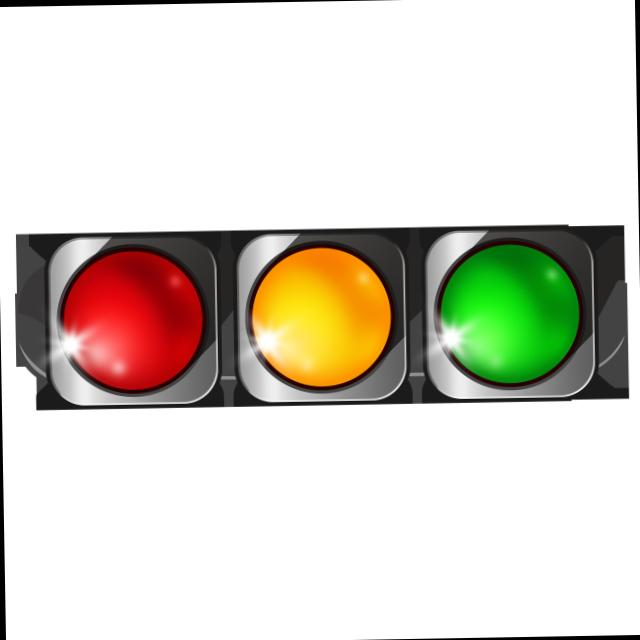green-lights: (409, 182, 585, 417)
red-lights: (44, 220, 218, 416)
yellow-lights: (230, 198, 410, 419)
